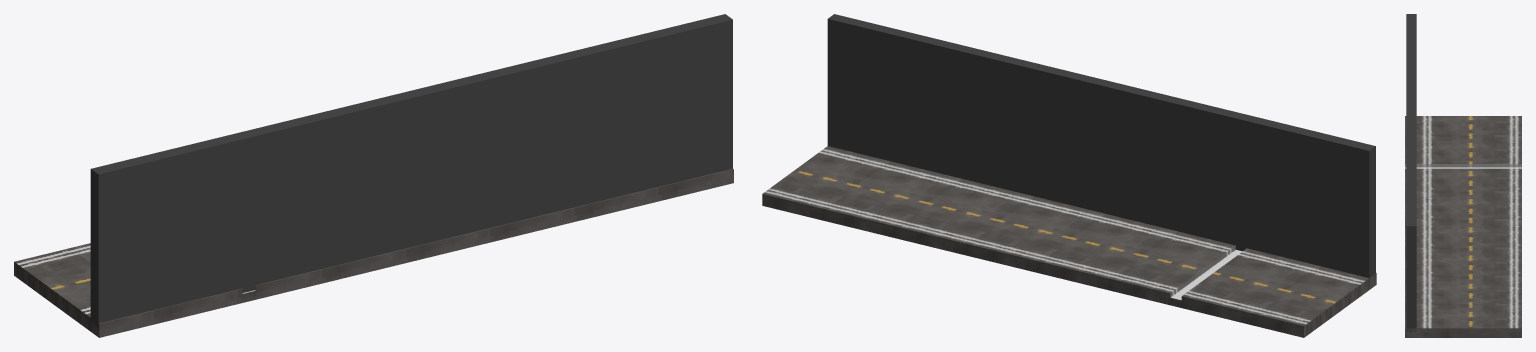
File: Platform 2.fbx
3 renders of one model, left to right at view 1: azimuth 30°, elevation 25°; view 2: azimuth 150°, elevation 25°; view 3: azimuth 270°, elevation 25°, orthographic. The views are drawn at different scales.
Parts seen in each view (by area): view 1: Cube.003, Platform 2; view 2: Cube.003, Platform 2; view 3: Platform 2, Cube.003.
Part boxes in pixels (x1,y1,x2,y2): Cube.003: (90,14,732,328); Platform 2: (14,168,733,337); Cube.003: (827,14,1375,277); Platform 2: (762,146,1376,337); Platform 2: (1405,116,1521,337); Cube.003: (1406,14,1416,331).
Bounding box in the file's own units: 9505 × 2333 × 2208.
2 materials, 1 textured.
